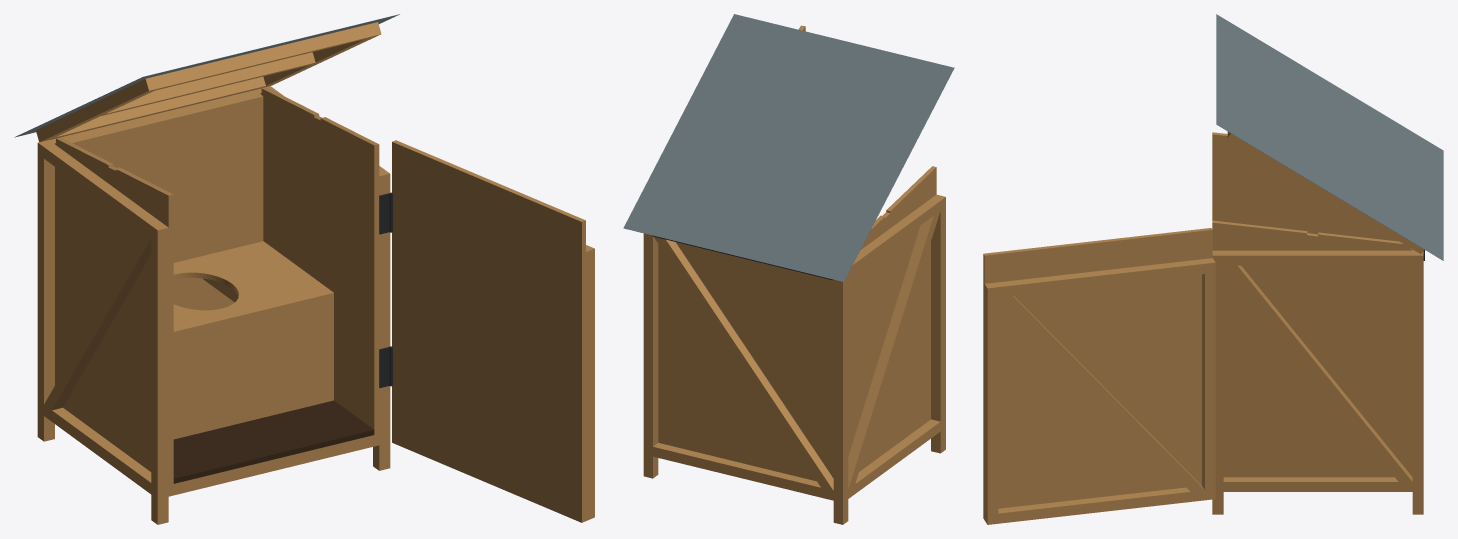
The model's file is dass-open.glb.
The picture shows the model from 3 angles, left to right: view 1: azimuth 30°, elevation 25°; view 2: azimuth 150°, elevation 25°; view 3: azimuth 270°, elevation 25°; orthographic projection. The views are drawn at different scales.
Parts seen in each view (by area): view 1: door_panel, right_wall, left_wall, back_wall, seat_front, floor, seat_top, front_post_left, back_post_left, left_brace, roof_front, front_post_right (+10 smaller); view 2: roof, back_wall, left_wall, back_brace, left_brace, back_post_left, back_post_right, front_post_left, back_bottom, left_bottom, left_top, right_wall; view 3: door_panel, right_wall, roof, left_wall, right_brace, door_left, door_brace, door_right, door_top, door_bottom, back_post_right, right_top (+3 smaller).
Boxes of the visible parts, x1,y1,x2,y2 form: door_panel: (392, 140, 585, 522); right_wall: (260, 87, 379, 434); left_wall: (55, 137, 173, 484); back_wall: (69, 94, 263, 310); seat_front: (173, 298, 333, 439); floor: (173, 400, 374, 483); seat_top: (173, 241, 333, 336); front_post_left: (151, 223, 168, 524); back_post_left: (37, 140, 54, 441); left_brace: (44, 231, 151, 410); roof_front: (140, 22, 381, 93); front_post_right: (373, 169, 390, 470); roof: (623, 14, 954, 281); back_wall: (662, 242, 833, 481); left_wall: (848, 166, 936, 471); back_brace: (654, 236, 833, 490); left_brace: (848, 211, 940, 488); back_post_left: (833, 274, 848, 524); back_post_right: (643, 233, 658, 478); front_post_left: (931, 194, 945, 453); back_bottom: (653, 443, 833, 500); left_bottom: (848, 419, 940, 498); left_top: (848, 198, 940, 277); right_wall: (658, 244, 662, 443); door_panel: (983, 228, 1212, 519); right_wall: (1212, 220, 1412, 477); roof: (1216, 14, 1443, 260); left_wall: (1212, 132, 1398, 241); right_brace: (1224, 265, 1412, 481); door_left: (984, 282, 998, 524); door_brace: (999, 295, 1204, 491); door_right: (1202, 258, 1215, 500); door_top: (996, 259, 1204, 297); door_bottom: (998, 487, 1204, 523); back_post_right: (1412, 250, 1423, 514); right_top: (1223, 250, 1412, 265).
Size of the model in its own units: 1313 by 1756 by 1851.
